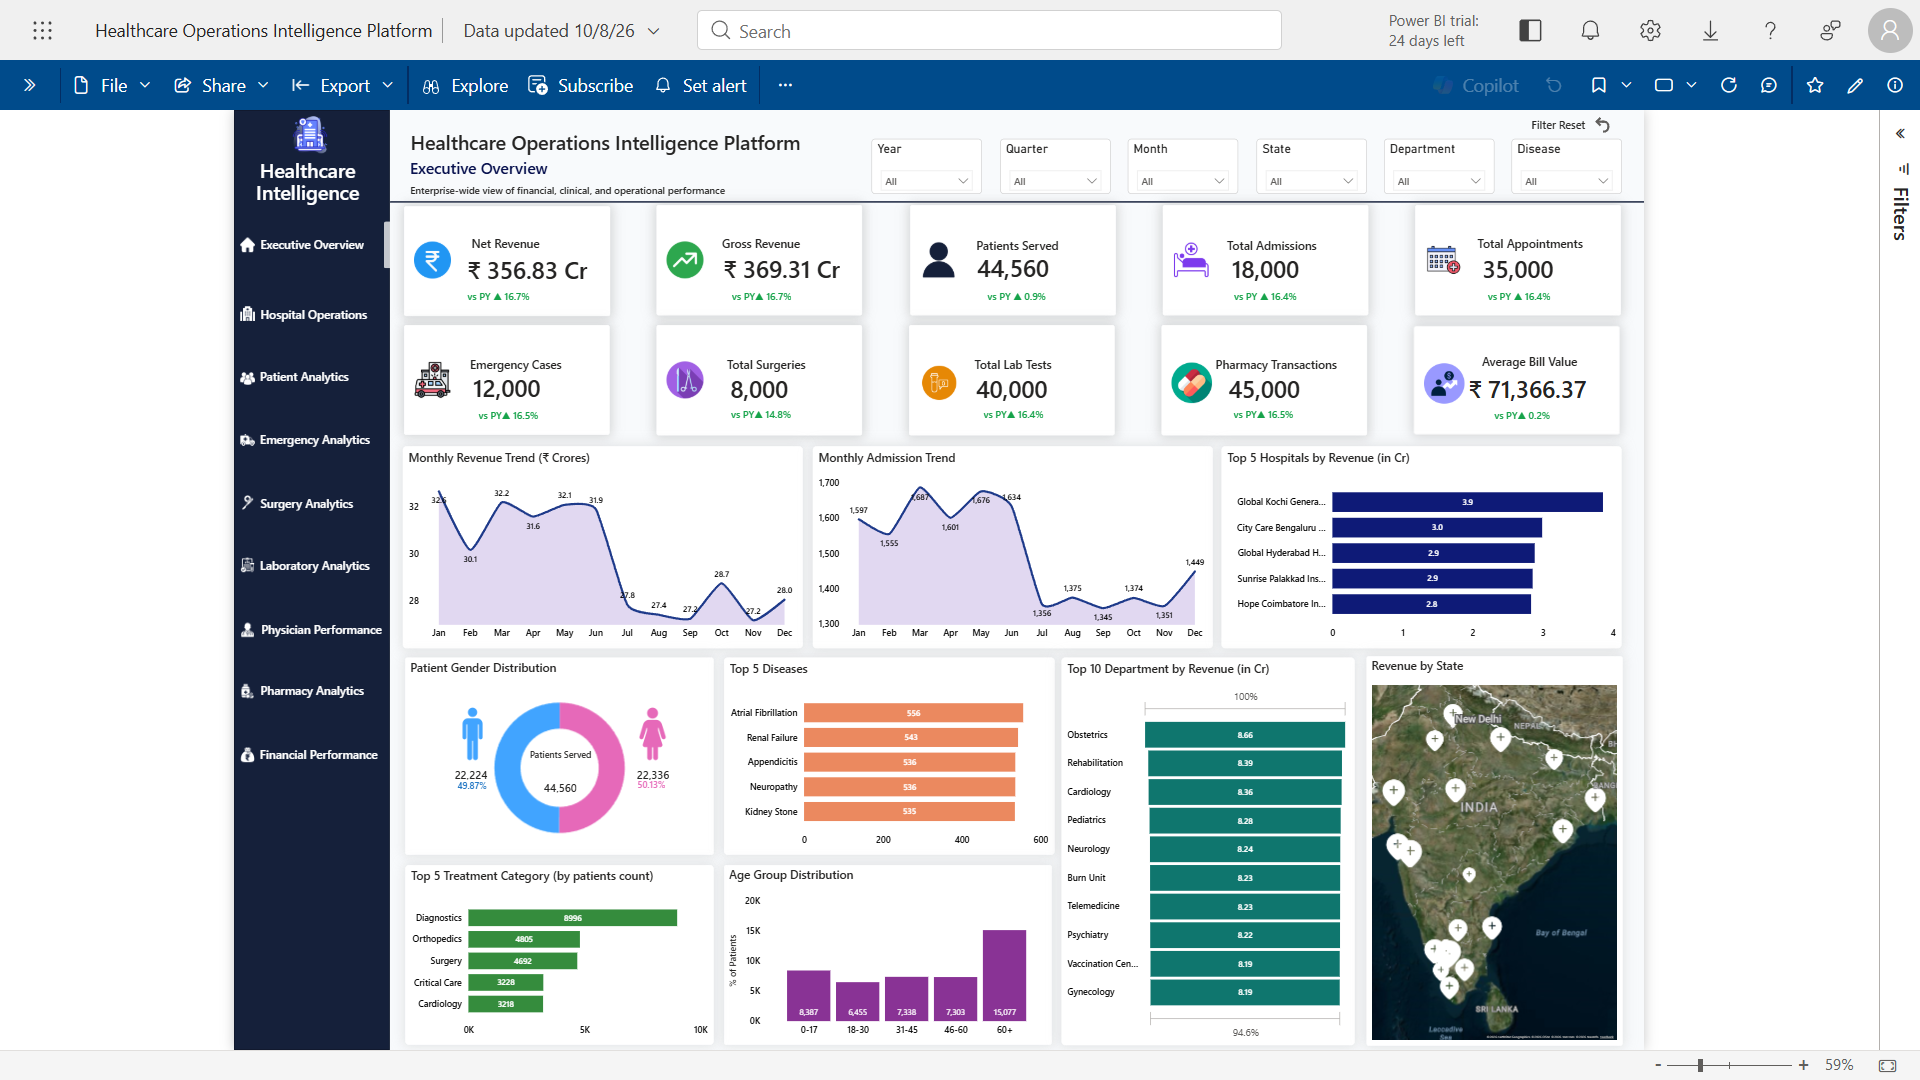

What the dashboard file says about the page in this screenshot:
{"tool":"powerbi","page":{"name":"Executive Overview","canvas":[1920,1280],"ordinal":0},"visuals":[{"type":"shape","box":[0,0,212,1280],"z":0},{"type":"textbox","box":[3.3,59.1,200.8,46.2],"z":0,"group":"g1"},{"type":"cardVisual","title":"Total Revenue","fields":{"Data":["_Dax.New_Gross_Revenue"]},"box":[576.1,130,280.3,150],"z":0,"group":"g3"},{"type":"cardVisual","title":"Total Revenue","fields":{"Data":["_Dax.Patients Served"]},"box":[921.2,130,280.3,150],"z":0,"group":"g4"},{"type":"cardVisual","title":"Total Revenue","fields":{"Data":["_Dax.Total Admissions"]},"box":[1265,130,280.3,150],"z":0,"group":"g5"},{"type":"cardVisual","title":"Total Revenue","fields":{"Data":["_Dax.Total Appointments"]},"box":[1608.8,130,280.3,150],"z":0,"group":"g6"},{"type":"cardVisual","title":"Total Revenue","fields":{"Data":["_Dax.Dynamic Rupee Card"]},"box":[231.5,130.7,280.8,150],"z":0,"group":"g2"},{"type":"cardVisual","title":"Total Revenue","fields":{"Data":["_Dax.Emergency Cases"]},"box":[230.8,293,280.3,149.2],"z":0,"group":"g7"},{"type":"cardVisual","title":"Total Revenue","fields":{"Data":["_Dax.Surgeries"]},"box":[574.9,293.1,280.3,150],"z":0,"group":"g8"},{"type":"cardVisual","title":"Total Revenue","fields":{"Data":["_Dax.Lab Tests"]},"box":[918.7,293.1,280.3,150],"z":0,"group":"g9"},{"type":"cardVisual","title":"Total Revenue","fields":{"Data":["_Dax.Pharmacy Transactions"]},"box":[1263.7,293.1,280.3,150],"z":0,"group":"g10"},{"type":"cardVisual","title":"Total Revenue","fields":{"Data":["_Dax.Average Bill Value"]},"box":[1607.5,293.7,280.3,147.4],"z":0,"group":"g11"},{"type":"donutChart","title":"Patient Gender Distribution","fields":{"Y":["_Dax.Total Female Patients","_Dax.Total Male Patients"]},"box":[233.6,745.2,420,268.6],"z":0,"group":"g12"},{"type":"actionButton","box":[1847.7,4.6,40,30],"z":1000},{"type":"textbox","box":[5,87.4,190.4,46.2],"z":1000,"group":"g1"},{"type":"image","box":[1278.7,169.3,50,71.5],"z":1000,"group":"g5"},{"type":"image","box":[244.8,172.2,50.1,65.2],"z":1000,"group":"g2"},{"type":"cardVisual","fields":{"Data":["_Dax.Patients vs PY"]},"box":[991.8,224.5,150,56],"z":1000,"group":"g4"},{"type":"cardVisual","fields":{"Data":["_Dax.Admission vs PY"]},"box":[1674.9,224.6,150,56],"z":1000,"group":"g6"},{"type":"cardVisual","fields":{"Data":["_Dax.Gross Revenue vs PY"]},"box":[644.1,224.7,150,56],"z":1000,"group":"g3"},{"type":"cardVisual","fields":{"Data":["_Dax.Pharmacy Transaction vs PY"]},"box":[1324.1,385,155.4,56.7],"z":1000,"group":"g10"},{"type":"cardVisual","fields":{"Data":["_Dax.Surgeries vs PY"]},"box":[640.3,385.4,155.4,56.7],"z":1000,"group":"g8"},{"type":"cardVisual","fields":{"Data":["_Dax.Lab Tests vs PY"]},"box":[984,385.4,155.4,56.7],"z":1000,"group":"g9"},{"type":"cardVisual","fields":{"Data":["_Dax.Avg Bill Value vs PY"]},"box":[1677.2,386,155.4,56.7],"z":1000,"group":"g11"},{"type":"cardVisual","fields":{"Data":["_Dax.Emergency vs PY"]},"box":[295.2,386.3,155.4,56.7],"z":1000,"group":"g7"},{"type":"cardVisual","title":"Patients Served","fields":{"Data":["_Dax.Patients Served"]},"box":[389.4,848.4,109.7,112.7],"z":1000,"group":"g12"},{"type":"textbox","box":[212,20,586,46],"z":2000},{"type":"textbox","box":[311.1,165,116.7,32.7],"z":2000,"group":"g2"},{"type":"image","box":[589.8,169.3,50,71.5],"z":2000,"group":"g3"},{"type":"image","box":[934.9,169.3,50,71.5],"z":2000,"group":"g4"},{"type":"image","box":[1622.5,169.3,50,71.5],"z":2000,"group":"g6"},{"type":"cardVisual","fields":{"Data":["_Dax.Admission vs PY"]},"box":[1330.2,225,150,56],"z":2000,"group":"g5"},{"type":"image","box":[244.5,332.1,50,71.2],"z":2000,"group":"g7"},{"type":"image","box":[588.6,332.4,50,71.5],"z":2000,"group":"g8"},{"type":"image","box":[932.4,332.4,55,78.7],"z":2000,"group":"g9"},{"type":"image","box":[1277.4,332.4,55,78.7],"z":2000,"group":"g10"},{"type":"image","box":[1621.2,332.4,55,77.3],"z":2000,"group":"g11"},{"type":"image","box":[287.3,811.5,74.8,75],"z":2000,"group":"g12"},{"type":"textbox","box":[1757.7,4.6,90,31.5],"z":3000},{"type":"textbox","box":[656,165,124.7,32],"z":3000,"group":"g3"},{"type":"textbox","box":[1680,165,170,35.3],"z":3000,"group":"g6"},{"type":"textbox","box":[1001.8,168.6,132,32],"z":3000,"group":"g4"},{"type":"textbox","box":[1340.4,168.6,147.3,32],"z":3000,"group":"g5"},{"type":"cardVisual","fields":{"Data":["_Dax.Revenue vs PY"]},"box":[283.3,224,155.4,56.7],"z":3000,"group":"g2"},{"type":"textbox","box":[1677,326,175.3,33.3],"z":3000,"group":"g11"},{"type":"textbox","box":[1323.2,329.7,193.3,35.3],"z":3000,"group":"g10"},{"type":"textbox","box":[306.9,330,151.3,32.7],"z":3000,"group":"g7"},{"type":"textbox","box":[661,331,125.3,34],"z":3000,"group":"g8"},{"type":"textbox","box":[998.9,331,123.3,33.3],"z":3000,"group":"g9"},{"type":"image","box":[533.3,811,74.8,75],"z":3000,"group":"g12"},{"type":"textbox","box":[231,96.2,445.4,29.2],"z":4000},{"type":"cardVisual","fields":{"Data":["_Dax.Total Male Patients"]},"box":[268.4,878.9,111.7,50],"z":4000,"group":"g12"},{"type":"textbox","box":[17.1,167.1,178.6,31.4],"z":5000},{"type":"cardVisual","fields":{"Data":["_Dax.Total Female Patients"]},"box":[514,878.3,113.3,51.1],"z":5000,"group":"g12"},{"type":"textbox","box":[24.2,261.7,169.5,31.6],"z":6000},{"type":"cardVisual","fields":{"Data":["_Dax.Total Male Patients %"]},"box":[270.5,892.8,107,50],"z":6000,"group":"g12"},{"type":"image","box":[8.5,173,20,20],"z":7000},{"type":"cardVisual","fields":{"Data":["_Dax.Total Female Patients %"]},"box":[518.5,891.6,102.2,50],"z":7000,"group":"g12"},{"type":"textbox","box":[228,59.2,210,45.4],"z":8000},{"type":"group","id":"g1","title":"Health Care","box":[3.3,59.1,200.8,74.6],"z":9000},{"type":"image","box":[79,9.1,50,50],"z":10000},{"type":"slicer","title":"Year","fields":{"Values":["Dim_Date.Year"]},"box":[868.8,38.8,150,75],"z":11000},{"type":"slicer","title":"Quarter","fields":{"Values":["Dim_Date.Quarter"]},"box":[1043,38.8,150,75],"z":12000},{"type":"slicer","title":"Month","fields":{"Values":["Dim_Date.MonthName"]},"box":[1217.2,38.8,150,75],"z":13000},{"type":"slicer","title":"State","fields":{"Values":["Dim_Geography.State"]},"box":[1391.5,38.8,150,75],"z":14000},{"type":"slicer","title":"Department","fields":{"Values":["Dim_Department.DepartmentName"]},"box":[1565.8,38.8,150,75],"z":15000},{"type":"slicer","title":"Disease","fields":{"Values":["Dim_Disease.DiseaseName"]},"box":[1740,38.8,150,75],"z":16000},{"type":"shape","box":[212.1,119.3,1707.9,12],"z":17000},{"type":"textbox","box":[17,347.3,157.4,31.6],"z":18000},{"type":"textbox","box":[25.8,432.8,169.5,31.6],"z":19000},{"type":"textbox","box":[21,518.4,157.4,31.6],"z":20000},{"type":"textbox","box":[24,604,172.5,31.7],"z":21000},{"type":"textbox","box":[24.2,860.8,183.2,31.6],"z":22000},{"type":"textbox","box":[25,691.5,187,31.5],"z":23000},{"type":"textbox","box":[5,775.2,202.5,31.7],"z":24000},{"type":"group","id":"g2","title":"KPI 1","box":[231.5,130.7,280.8,150],"z":25000},{"type":"group","id":"g3","title":"KPI 2","box":[576.1,130,280.3,150.7],"z":26000},{"type":"group","id":"g4","title":"KPI 3","box":[921.2,130,280.3,150.5],"z":27000},{"type":"group","id":"g5","title":"KPI 4","box":[1265,130,280.3,151],"z":28000},{"type":"group","id":"g6","title":"KPI 5","box":[1608.8,130,280.3,150.6],"z":29000},{"type":"group","id":"g7","title":"KPI 6","box":[230.8,293,280.3,150.1],"z":30000},{"type":"group","id":"g8","title":"KPI 7","box":[574.9,293.1,280.3,150],"z":31000},{"type":"group","id":"g9","title":"KPI 8","box":[918.7,293.1,280.3,150],"z":32000},{"type":"group","id":"g10","title":"KPI 9","box":[1263.7,293.1,280.3,150],"z":33000},{"type":"group","id":"g11","title":"KPI 10","box":[1607.5,293.7,280.3,149],"z":34000},{"type":"lineChart","title":"Monthly Revenue Trend (₹ Crores)","fields":{"Category":["Dim_Date.MonthShort"],"Y":["_Dax.Revenue (cr)"]},"box":[230.5,457.5,545,275],"z":35000},{"type":"lineChart","title":"Monthly Admission Trend","fields":{"Category":["Dim_Date.MonthShort"],"Y":["_Dax.Total Admissions"]},"box":[788,457.5,545,275],"z":36000},{"type":"clusteredBarChart","title":"Top 5 Hospitals by Revenue (in Cr)","fields":{"Category":["Dim_Hospital.HospitalName"],"Y":["_Dax.Revenue (cr)"]},"box":[1344.2,457.5,545,275],"z":37000},{"type":"group","id":"g12","title":"Patient Distribution","box":[233.6,745.2,420,268.6],"z":38000},{"type":"clusteredBarChart","title":"Top 5 Diseases","fields":{"Category":["Dim_Disease.DiseaseName"],"Y":["_Dax.Patients by Disease"]},"box":[668,745,450,268.9],"z":39000},{"type":"columnChart","title":"Age Group Distribution","fields":{"Category":["Dim_Patient.Age Group Distribution"],"Y":["_Dax.Patients Served"]},"box":[668,1028,446,245],"z":40000},{"type":"funnel","title":"Top 10 Department by Revenue (in Cr)","fields":{"Category":["Dim_Department.DepartmentName"],"Y":["_Dax.Revenue (cr)"]},"box":[1127.2,746.1,399.2,528.3],"z":41000},{"type":"clusteredBarChart","title":"Top 5 Treatment Category (by patients count)","fields":{"Category":["Dim_Treatment.TreatmentCategory"],"Y":["_Dax.Patients by Treatment"]},"box":[234,1028,420,245],"z":42000},{"type":"azureMap","title":"Revenue by State","fields":{"Size":["_Dax.Revenue (cr)"],"X":["Dim_Geography.Longitude"],"Y":["Dim_Geography.Latitude"]},"box":[1542.5,744,348.8,530.3],"z":43000},{"type":"shape","box":[203.6,150.7,8.6,64.3],"z":44000},{"type":"image","box":[8.5,267.5,20,20],"z":45000},{"type":"image","box":[8.5,355,20,20],"z":46000},{"type":"image","box":[8.5,438,20,20],"z":47000},{"type":"image","box":[8.5,524,20,20],"z":48000},{"type":"image","box":[8,610,20,20],"z":49000},{"type":"image","box":[8,697.5,20,20],"z":50000},{"type":"image","box":[8,781,20,20],"z":51000},{"type":"image","box":[8,868,20,20],"z":52000}]}

Visuals, with their boxes on the page's 1920x1280 design canvas (x1, y1, x2, y2). These are canvas units, not pixel positions in the 1920x1080 screenshot, which may show the page scaled, cropped or inside an application window:
shape: {"left": 0, "top": 0, "right": 212, "bottom": 1280}
textbox: {"left": 3, "top": 59, "right": 204, "bottom": 105}
"Total Revenue" cardVisual: {"left": 576, "top": 130, "right": 856, "bottom": 280}
"Total Revenue" cardVisual: {"left": 921, "top": 130, "right": 1202, "bottom": 280}
"Total Revenue" cardVisual: {"left": 1265, "top": 130, "right": 1545, "bottom": 280}
"Total Revenue" cardVisual: {"left": 1609, "top": 130, "right": 1889, "bottom": 280}
"Total Revenue" cardVisual: {"left": 232, "top": 131, "right": 512, "bottom": 281}
"Total Revenue" cardVisual: {"left": 231, "top": 293, "right": 511, "bottom": 442}
"Total Revenue" cardVisual: {"left": 575, "top": 293, "right": 855, "bottom": 443}
"Total Revenue" cardVisual: {"left": 919, "top": 293, "right": 1199, "bottom": 443}
"Total Revenue" cardVisual: {"left": 1264, "top": 293, "right": 1544, "bottom": 443}
"Total Revenue" cardVisual: {"left": 1608, "top": 294, "right": 1888, "bottom": 441}
"Patient Gender Distribution" donutChart: {"left": 234, "top": 745, "right": 654, "bottom": 1014}
actionButton: {"left": 1848, "top": 5, "right": 1888, "bottom": 35}
textbox: {"left": 5, "top": 87, "right": 195, "bottom": 134}
image: {"left": 1279, "top": 169, "right": 1329, "bottom": 241}
image: {"left": 245, "top": 172, "right": 295, "bottom": 237}
cardVisual - _Dax.Patients vs PY: {"left": 992, "top": 224, "right": 1142, "bottom": 280}
cardVisual - _Dax.Admission vs PY: {"left": 1675, "top": 225, "right": 1825, "bottom": 281}
cardVisual - _Dax.Gross Revenue vs PY: {"left": 644, "top": 225, "right": 794, "bottom": 281}
cardVisual - _Dax.Pharmacy Transaction vs PY: {"left": 1324, "top": 385, "right": 1480, "bottom": 442}
cardVisual - _Dax.Surgeries vs PY: {"left": 640, "top": 385, "right": 796, "bottom": 442}
cardVisual - _Dax.Lab Tests vs PY: {"left": 984, "top": 385, "right": 1139, "bottom": 442}
cardVisual - _Dax.Avg Bill Value vs PY: {"left": 1677, "top": 386, "right": 1833, "bottom": 443}
cardVisual - _Dax.Emergency vs PY: {"left": 295, "top": 386, "right": 451, "bottom": 443}
"Patients Served" cardVisual: {"left": 389, "top": 848, "right": 499, "bottom": 961}
textbox: {"left": 212, "top": 20, "right": 798, "bottom": 66}
textbox: {"left": 311, "top": 165, "right": 428, "bottom": 198}
image: {"left": 590, "top": 169, "right": 640, "bottom": 241}
image: {"left": 935, "top": 169, "right": 985, "bottom": 241}
image: {"left": 1622, "top": 169, "right": 1672, "bottom": 241}
cardVisual - _Dax.Admission vs PY: {"left": 1330, "top": 225, "right": 1480, "bottom": 281}
image: {"left": 244, "top": 332, "right": 294, "bottom": 403}
image: {"left": 589, "top": 332, "right": 639, "bottom": 404}
image: {"left": 932, "top": 332, "right": 987, "bottom": 411}
image: {"left": 1277, "top": 332, "right": 1332, "bottom": 411}
image: {"left": 1621, "top": 332, "right": 1676, "bottom": 410}
image: {"left": 287, "top": 812, "right": 362, "bottom": 886}
textbox: {"left": 1758, "top": 5, "right": 1848, "bottom": 36}
textbox: {"left": 656, "top": 165, "right": 781, "bottom": 197}
textbox: {"left": 1680, "top": 165, "right": 1850, "bottom": 200}
textbox: {"left": 1002, "top": 169, "right": 1134, "bottom": 201}
textbox: {"left": 1340, "top": 169, "right": 1488, "bottom": 201}
cardVisual - _Dax.Revenue vs PY: {"left": 283, "top": 224, "right": 439, "bottom": 281}
textbox: {"left": 1677, "top": 326, "right": 1852, "bottom": 359}
textbox: {"left": 1323, "top": 330, "right": 1516, "bottom": 365}
textbox: {"left": 307, "top": 330, "right": 458, "bottom": 363}
textbox: {"left": 661, "top": 331, "right": 786, "bottom": 365}
textbox: {"left": 999, "top": 331, "right": 1122, "bottom": 364}
image: {"left": 533, "top": 811, "right": 608, "bottom": 886}
textbox: {"left": 231, "top": 96, "right": 676, "bottom": 125}
cardVisual - _Dax.Total Male Patients: {"left": 268, "top": 879, "right": 380, "bottom": 929}
textbox: {"left": 17, "top": 167, "right": 196, "bottom": 198}
cardVisual - _Dax.Total Female Patients: {"left": 514, "top": 878, "right": 627, "bottom": 929}
textbox: {"left": 24, "top": 262, "right": 194, "bottom": 293}
cardVisual - _Dax.Total Male Patients %: {"left": 270, "top": 893, "right": 378, "bottom": 943}
image: {"left": 8, "top": 173, "right": 28, "bottom": 193}
cardVisual - _Dax.Total Female Patients %: {"left": 518, "top": 892, "right": 621, "bottom": 942}
textbox: {"left": 228, "top": 59, "right": 438, "bottom": 105}
"Health Care" group: {"left": 3, "top": 59, "right": 204, "bottom": 134}
image: {"left": 79, "top": 9, "right": 129, "bottom": 59}
"Year" slicer: {"left": 869, "top": 39, "right": 1019, "bottom": 114}
"Quarter" slicer: {"left": 1043, "top": 39, "right": 1193, "bottom": 114}
"Month" slicer: {"left": 1217, "top": 39, "right": 1367, "bottom": 114}
"State" slicer: {"left": 1392, "top": 39, "right": 1542, "bottom": 114}
"Department" slicer: {"left": 1566, "top": 39, "right": 1716, "bottom": 114}
"Disease" slicer: {"left": 1740, "top": 39, "right": 1890, "bottom": 114}
shape: {"left": 212, "top": 119, "right": 1920, "bottom": 131}
textbox: {"left": 17, "top": 347, "right": 174, "bottom": 379}
textbox: {"left": 26, "top": 433, "right": 195, "bottom": 464}
textbox: {"left": 21, "top": 518, "right": 178, "bottom": 550}
textbox: {"left": 24, "top": 604, "right": 196, "bottom": 636}
textbox: {"left": 24, "top": 861, "right": 207, "bottom": 892}
textbox: {"left": 25, "top": 692, "right": 212, "bottom": 723}
textbox: {"left": 5, "top": 775, "right": 208, "bottom": 807}
"KPI 1" group: {"left": 232, "top": 131, "right": 512, "bottom": 281}
"KPI 2" group: {"left": 576, "top": 130, "right": 856, "bottom": 281}
"KPI 3" group: {"left": 921, "top": 130, "right": 1202, "bottom": 280}
"KPI 4" group: {"left": 1265, "top": 130, "right": 1545, "bottom": 281}
"KPI 5" group: {"left": 1609, "top": 130, "right": 1889, "bottom": 281}
"KPI 6" group: {"left": 231, "top": 293, "right": 511, "bottom": 443}
"KPI 7" group: {"left": 575, "top": 293, "right": 855, "bottom": 443}
"KPI 8" group: {"left": 919, "top": 293, "right": 1199, "bottom": 443}
"KPI 9" group: {"left": 1264, "top": 293, "right": 1544, "bottom": 443}
"KPI 10" group: {"left": 1608, "top": 294, "right": 1888, "bottom": 443}
"Monthly Revenue Trend (₹ Crores)" lineChart: {"left": 230, "top": 458, "right": 776, "bottom": 732}
"Monthly Admission Trend" lineChart: {"left": 788, "top": 458, "right": 1333, "bottom": 732}
"Top 5 Hospitals by Revenue (in Cr)" clusteredBarChart: {"left": 1344, "top": 458, "right": 1889, "bottom": 732}
"Patient Distribution" group: {"left": 234, "top": 745, "right": 654, "bottom": 1014}
"Top 5 Diseases" clusteredBarChart: {"left": 668, "top": 745, "right": 1118, "bottom": 1014}
"Age Group Distribution" columnChart: {"left": 668, "top": 1028, "right": 1114, "bottom": 1273}
"Top 10 Department by Revenue (in Cr)" funnel: {"left": 1127, "top": 746, "right": 1526, "bottom": 1274}
"Top 5 Treatment Category (by patients count)" clusteredBarChart: {"left": 234, "top": 1028, "right": 654, "bottom": 1273}
"Revenue by State" azureMap: {"left": 1542, "top": 744, "right": 1891, "bottom": 1274}
shape: {"left": 204, "top": 151, "right": 212, "bottom": 215}
image: {"left": 8, "top": 268, "right": 28, "bottom": 288}
image: {"left": 8, "top": 355, "right": 28, "bottom": 375}
image: {"left": 8, "top": 438, "right": 28, "bottom": 458}
image: {"left": 8, "top": 524, "right": 28, "bottom": 544}
image: {"left": 8, "top": 610, "right": 28, "bottom": 630}
image: {"left": 8, "top": 698, "right": 28, "bottom": 718}
image: {"left": 8, "top": 781, "right": 28, "bottom": 801}
image: {"left": 8, "top": 868, "right": 28, "bottom": 888}
